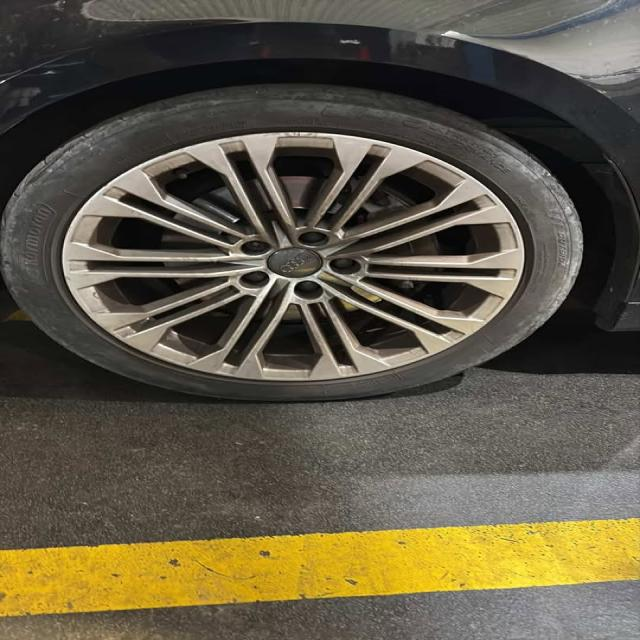jante: (61, 131, 526, 382)
parafuso: (328, 258, 358, 272), (299, 232, 327, 245), (296, 280, 320, 295), (242, 241, 269, 254), (241, 272, 268, 284)
roda: (0, 84, 583, 402)
